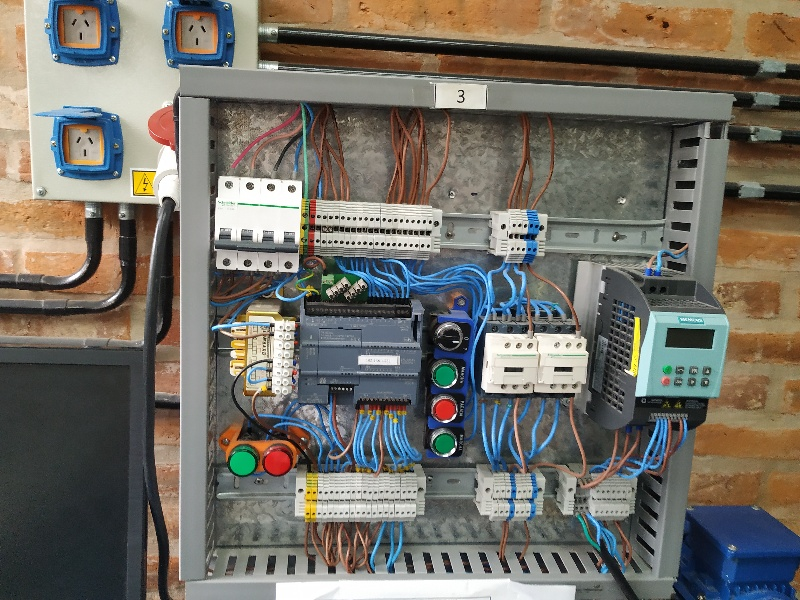Tablero 3: (194, 100, 728, 578)
